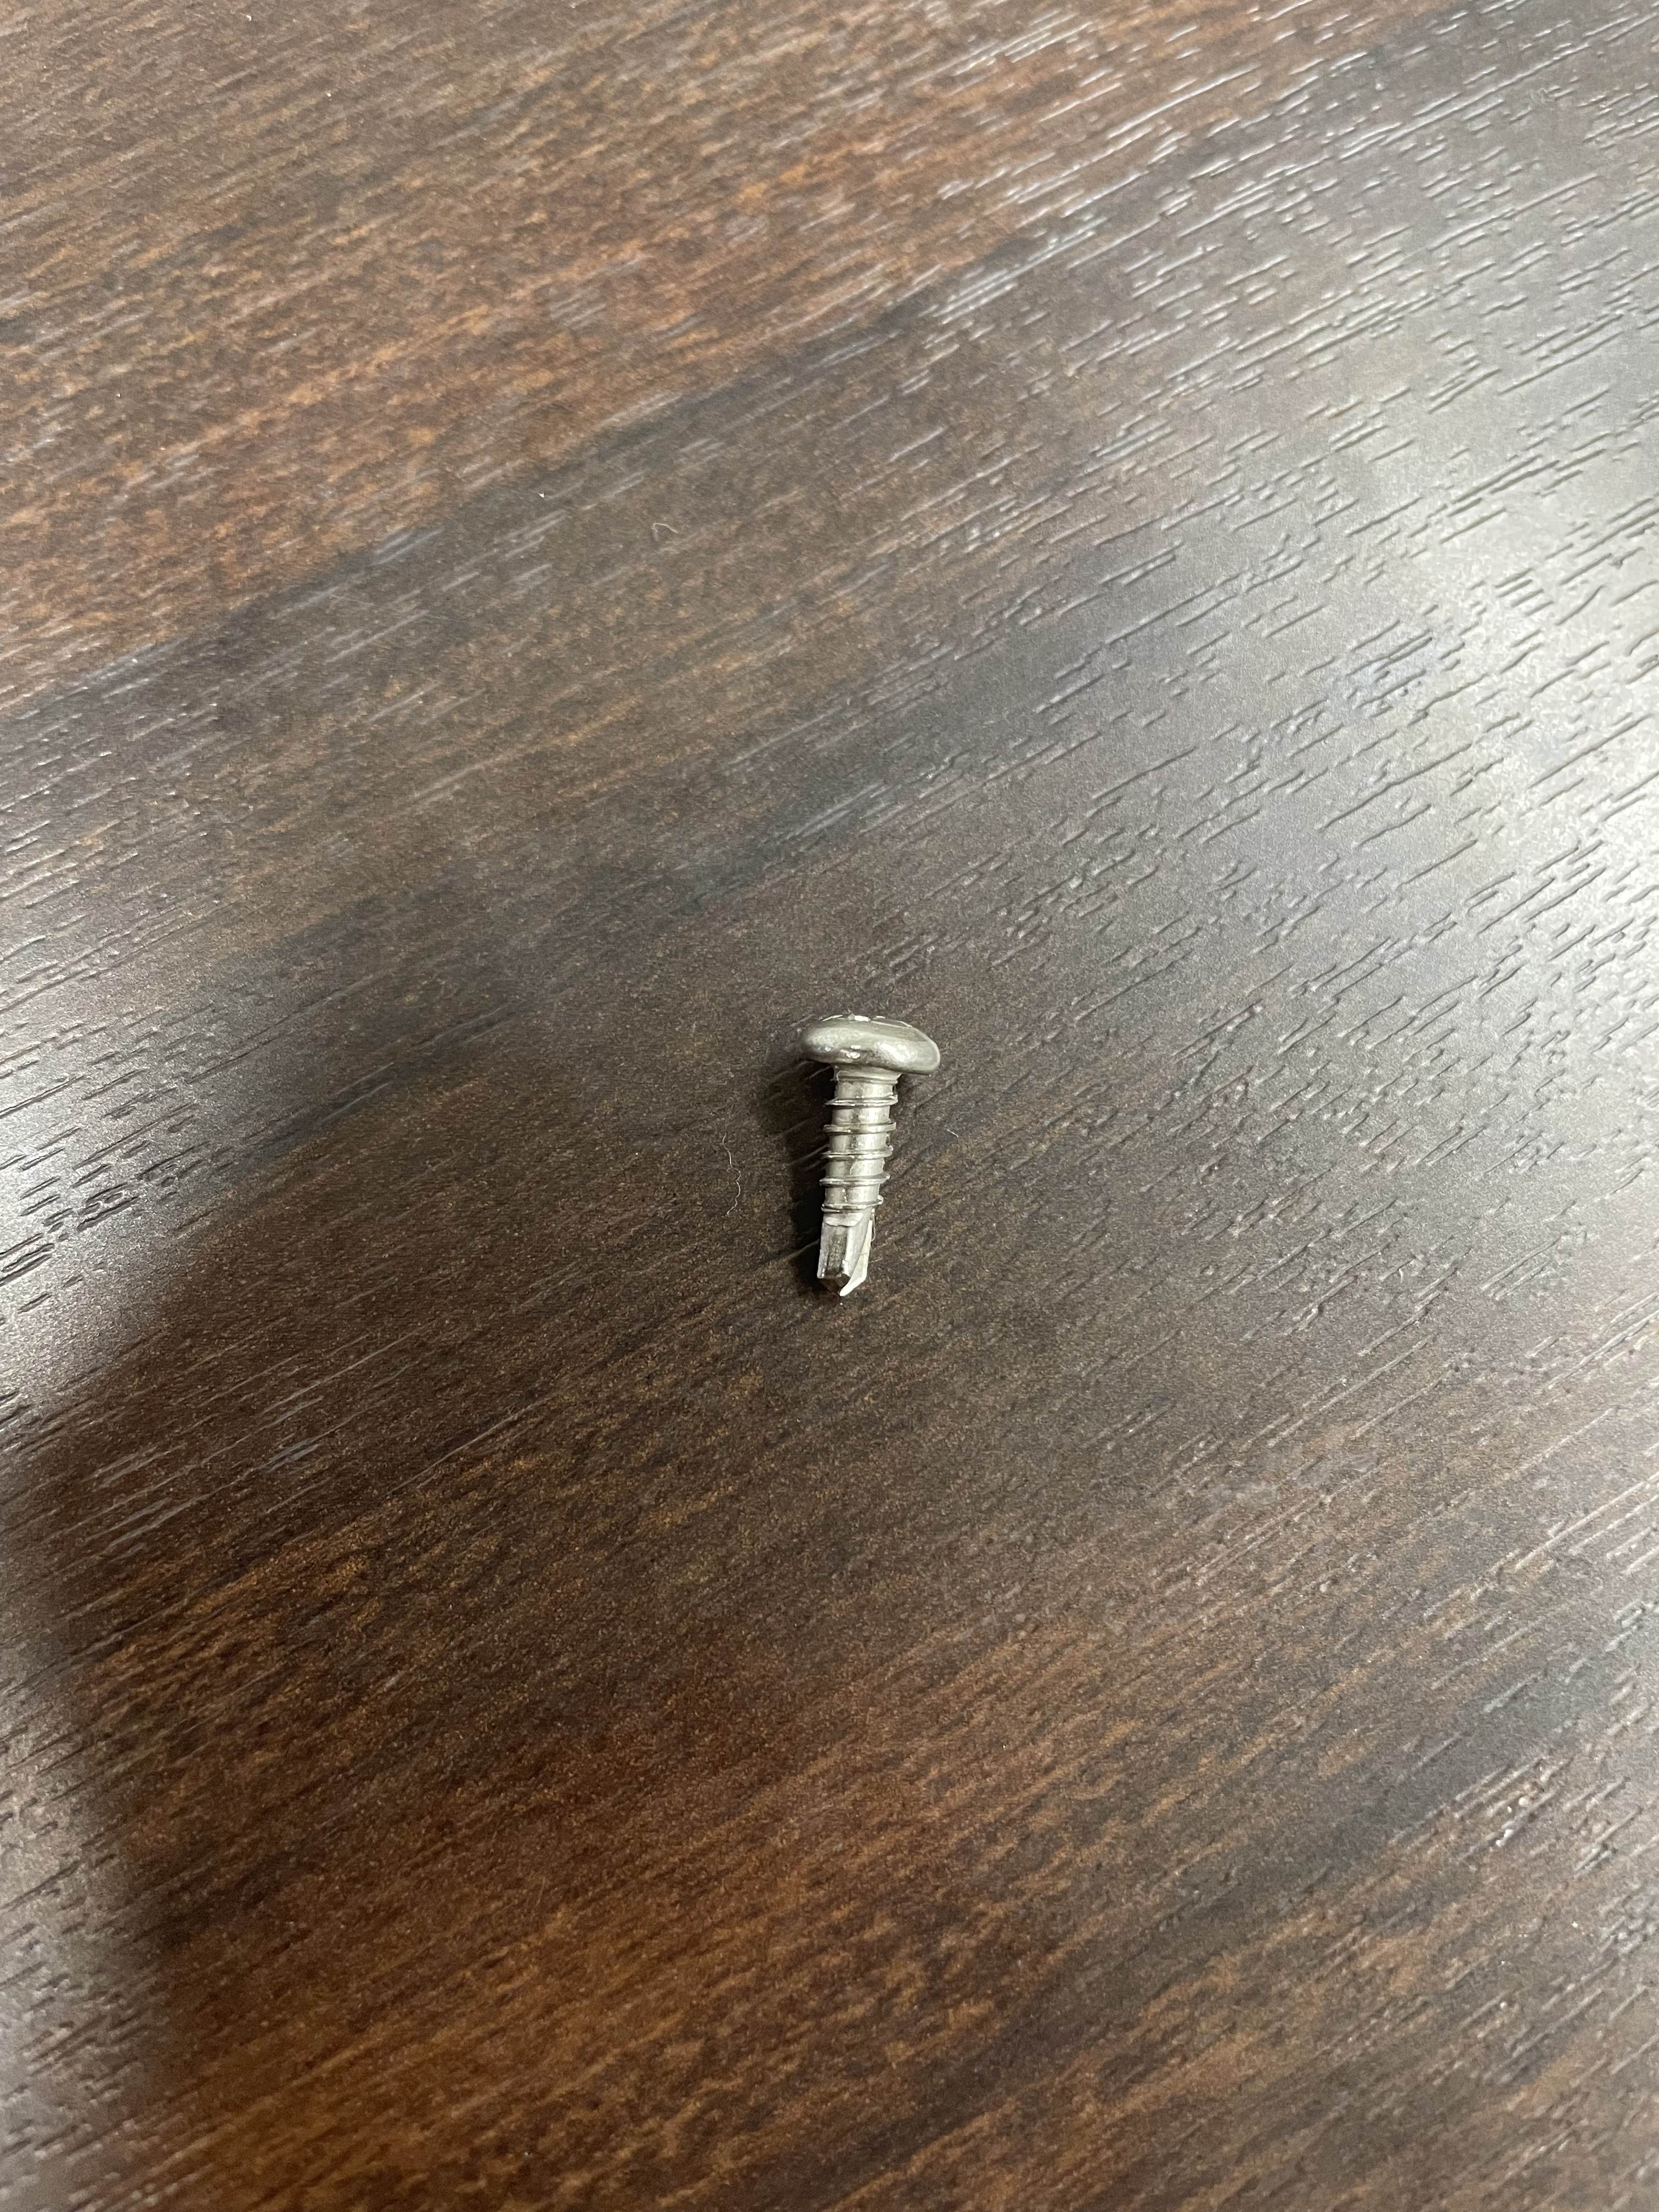screw3: (808, 1004, 940, 1304)
